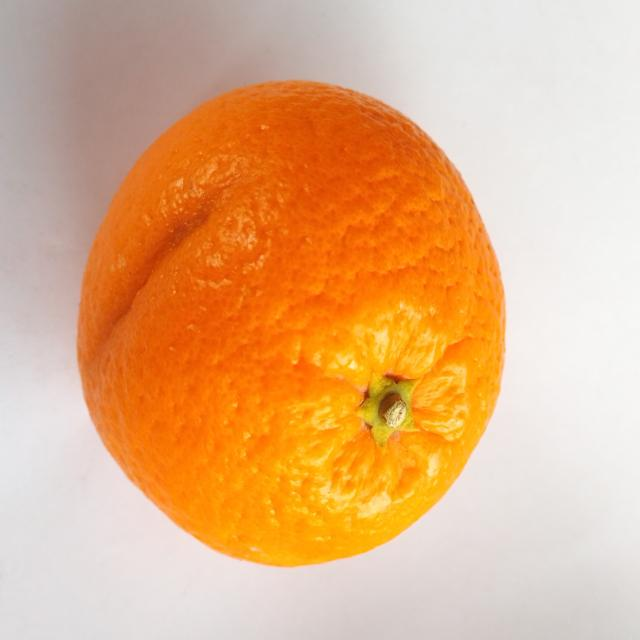orange: (78, 82, 504, 565)
